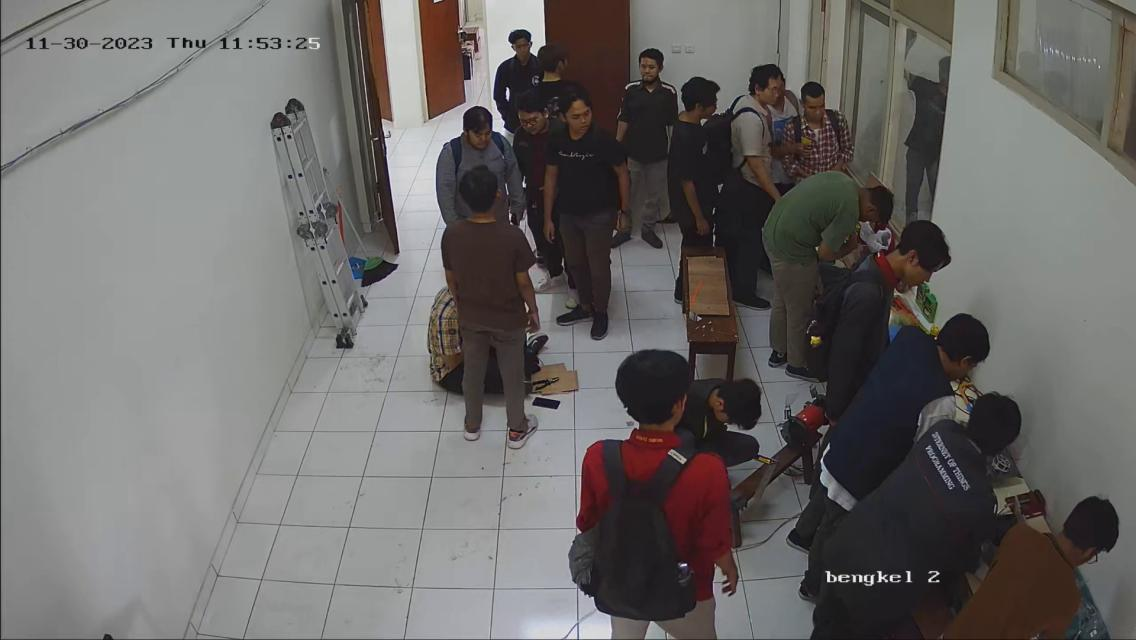Crowd: (413, 9, 906, 443), (745, 149, 1134, 640)
